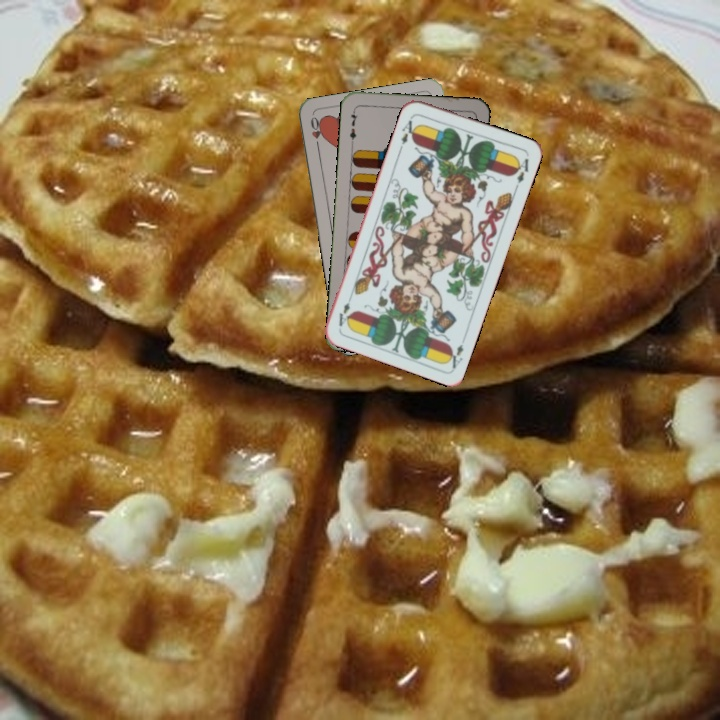E7: (345, 106, 361, 146)
EA: (396, 116, 420, 152), (443, 340, 466, 371)
HO: (306, 112, 324, 153)
